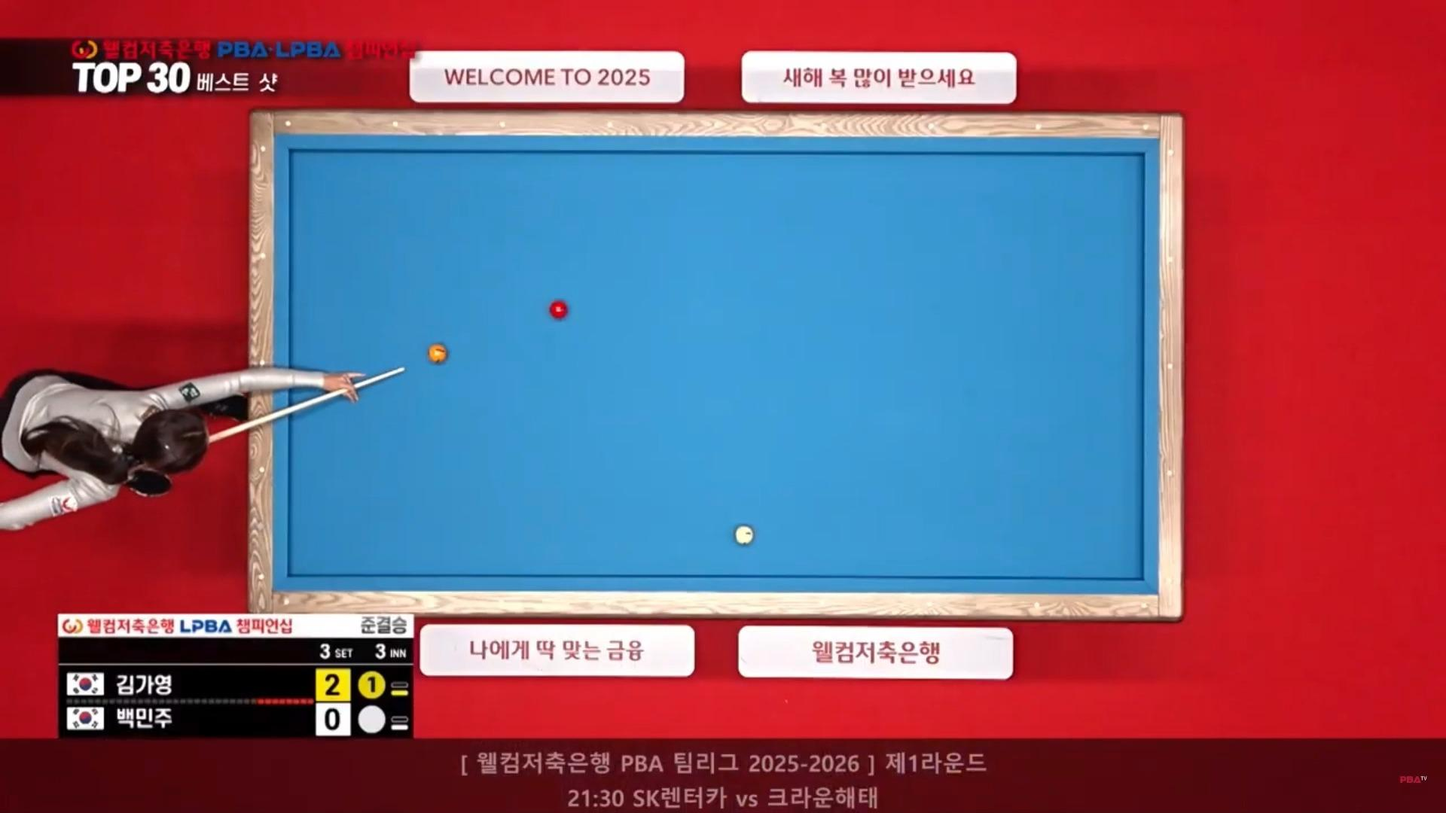Red: (542, 299, 567, 316), (548, 302, 570, 319)
White: (731, 526, 755, 546)
billiard-ball-Yellow: (427, 339, 450, 370)
